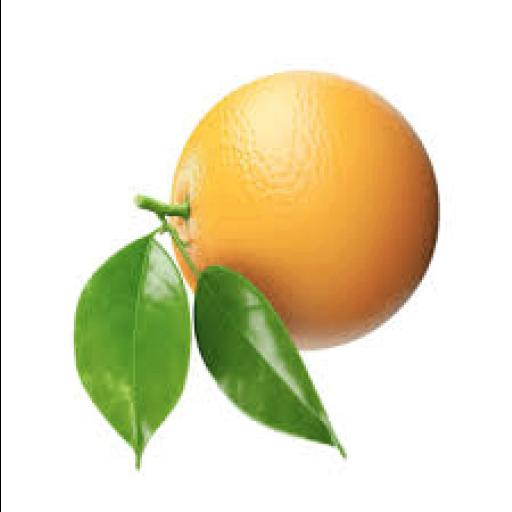orange: (172, 72, 437, 347)
